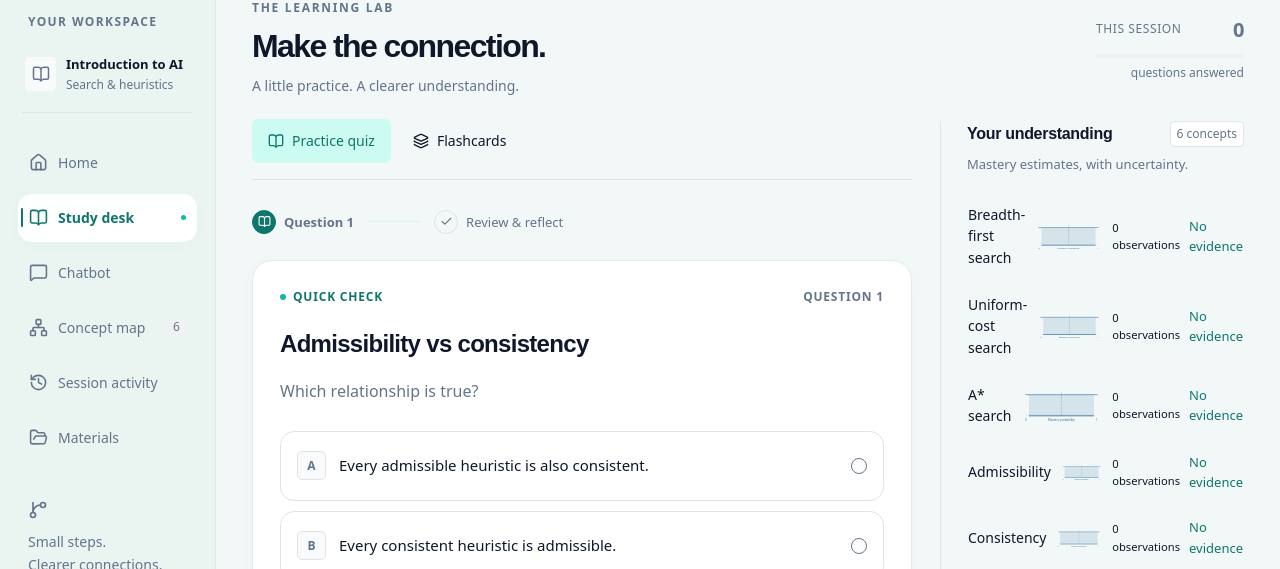
Scenario: study desk interactions › disables duplicate submissions while pending and offers reset after a request failure
Click the radio button labelled "Every admissible heuristic is also consistent.".
click(582, 466)  # box x1=280 y1=431 x2=884 y2=501
(page scrolled)
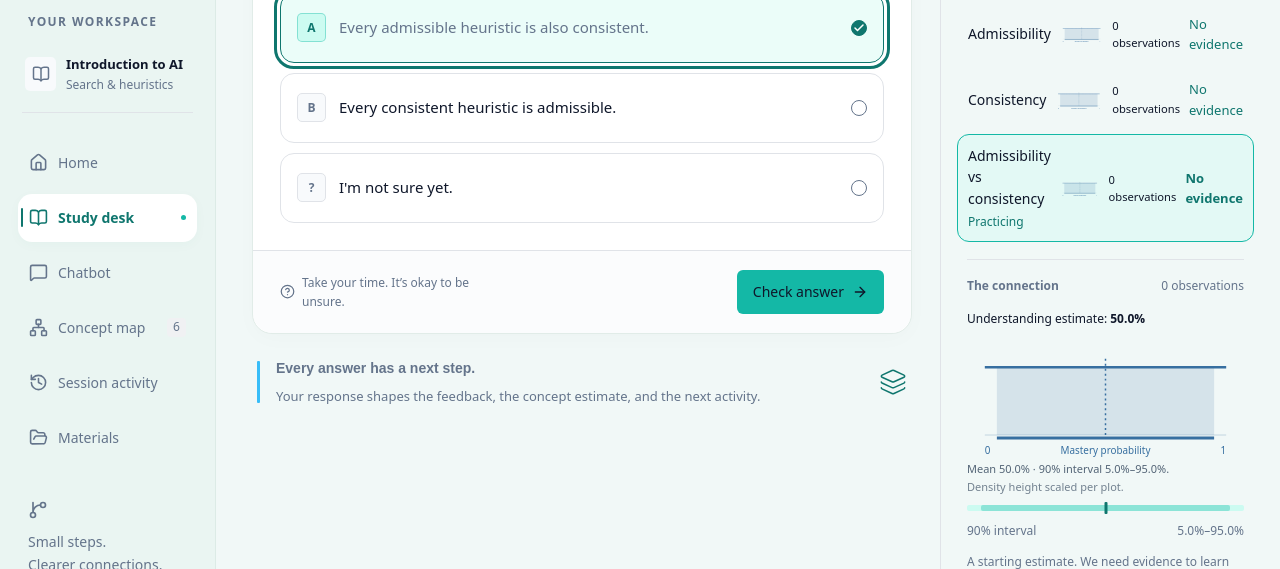
Click the button "Check answer".
click(810, 292)  # box x1=737 y1=270 x2=884 y2=314
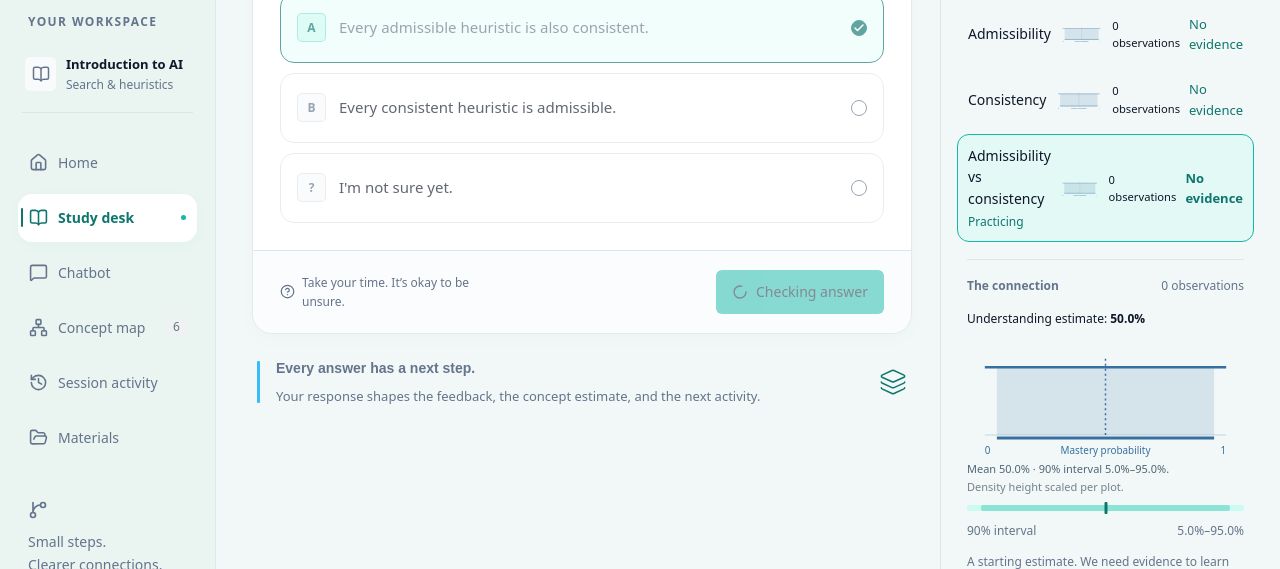
Check: the button "Checking answer" is disabled
Click the button "Checking answer".
click(800, 292)  # box x1=716 y1=270 x2=884 y2=314
(page scrolled)
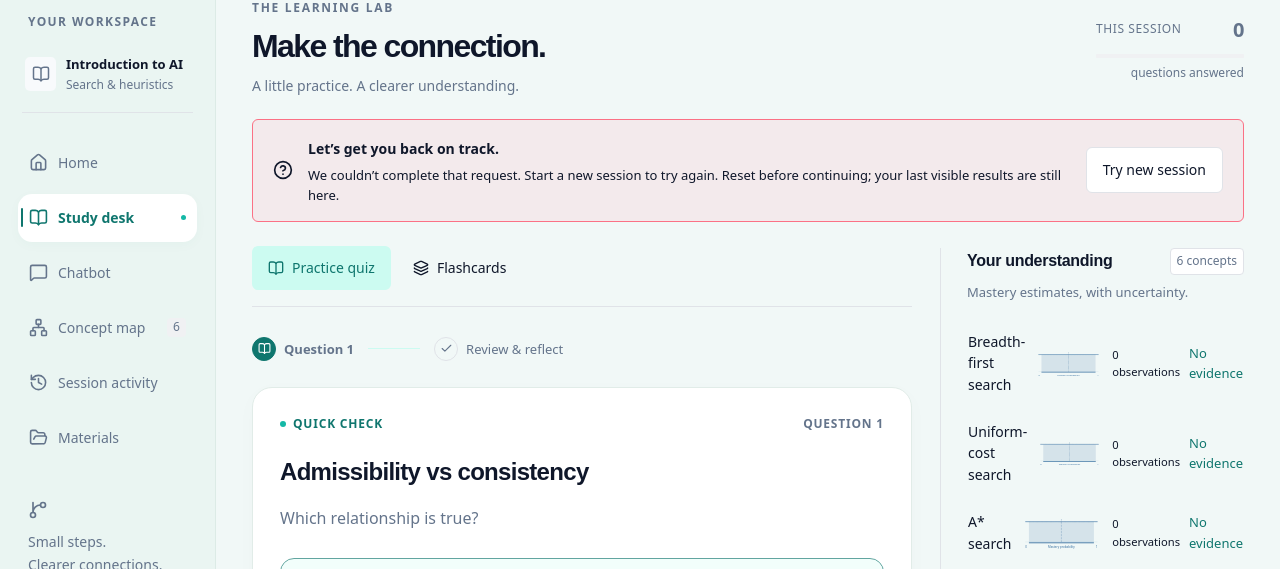
Check: the message is shown, box x1=252 y1=119 x2=1244 y2=222
Click the button "Try new session".
click(1154, 170)  # box x1=1086 y1=147 x2=1223 y2=193
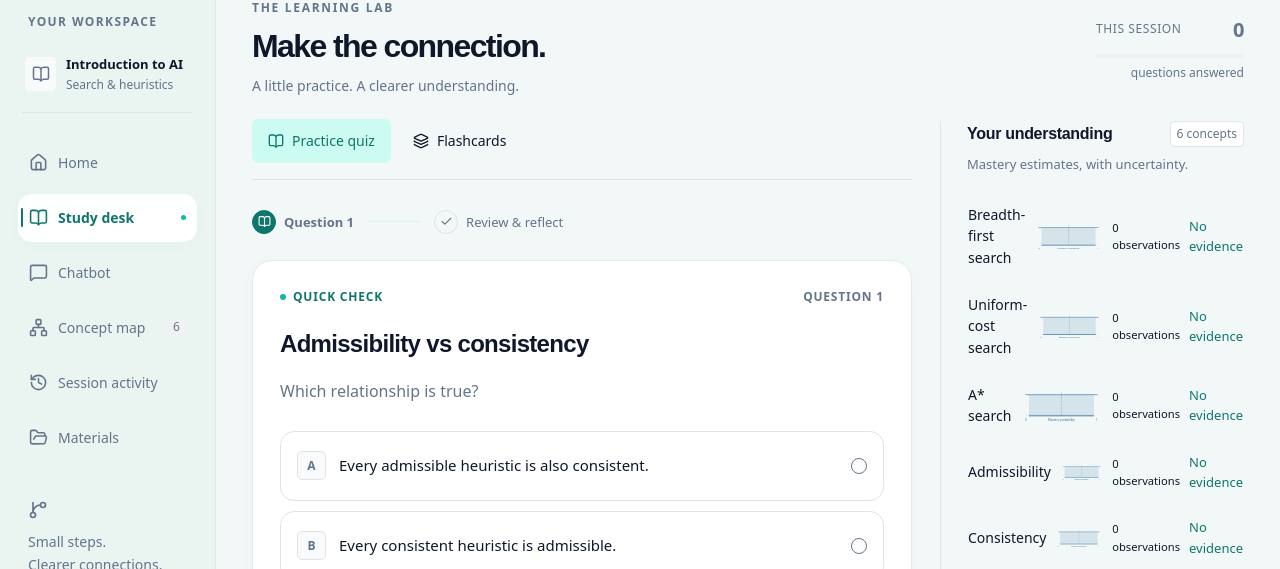
Check: the radio button labelled "Every admissible heuristic is also consistent." is enabled, box x1=280 y1=431 x2=884 y2=501
Check: the message is gone
